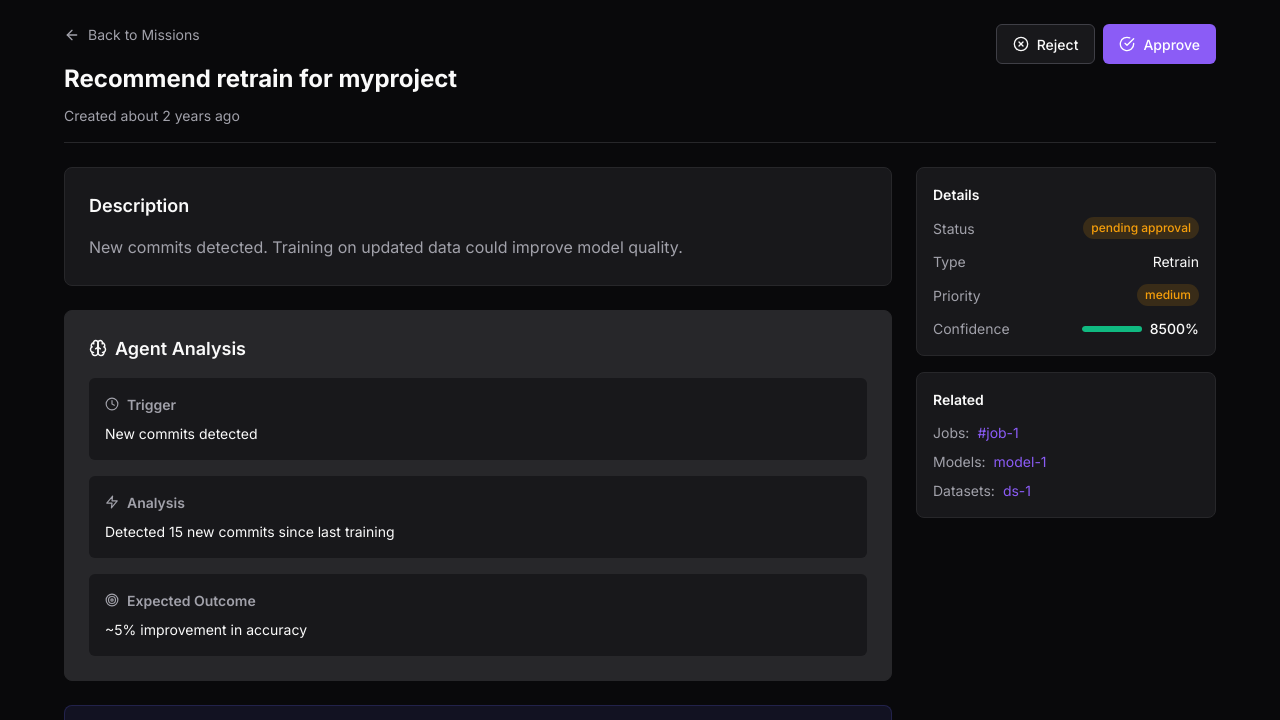
MissionDetailPage Integration › reject dialog requires reason before submitting
The image size is (1280, 720).
Click the button "Reject" at (1046, 44), box [996,24,1095,64]
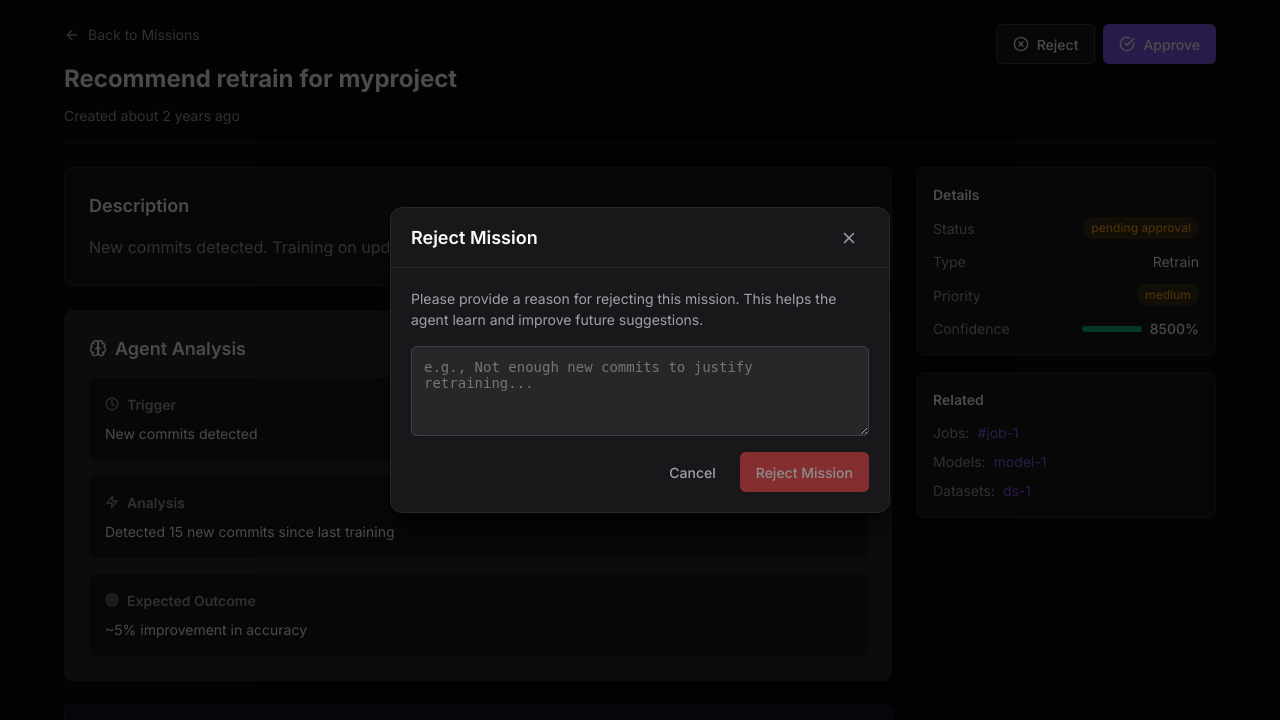
Result: the button "Reject Mission" is disabled at [740,452,869,492]
